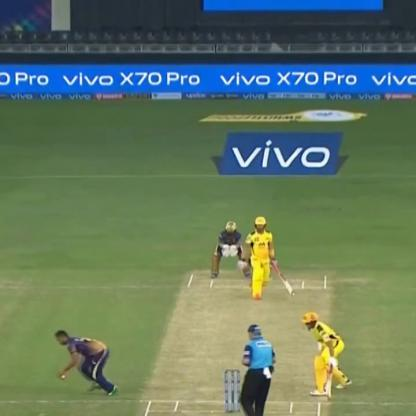ball: (54, 370, 69, 386)
pitch: (134, 273, 335, 415)
